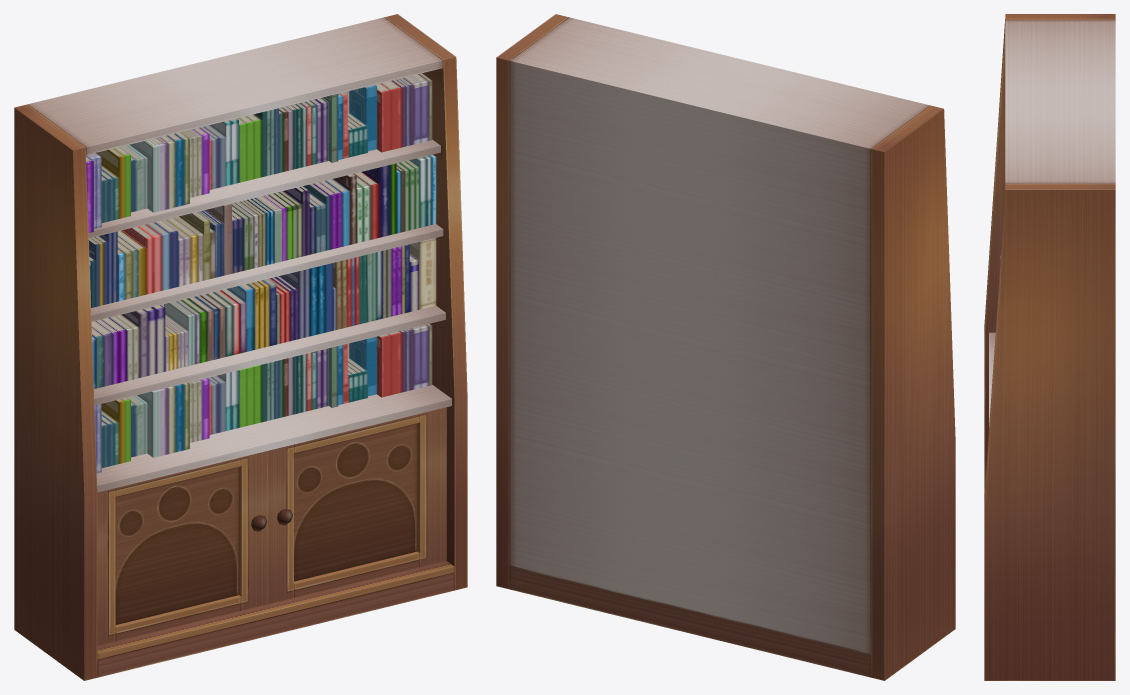
Rendered from Book_rack_01_01.fbx.
3 renders of one model, left to right at view 1: azimuth 30°, elevation 25°; view 2: azimuth 150°, elevation 25°; view 3: azimuth 270°, elevation 25°, orthographic. The views are drawn at different scales.
Visible parts, largest first — view 1: book_rack_01, door_R, door_L, book_b, book_a, book_c, book_d; view 2: book_rack_01; view 3: book_rack_01.
Boxes of the visible parts, <box> form: book_rack_01: <box>14,14,467,680</box>; door_R: <box>268,407,446,603</box>; door_L: <box>97,451,267,645</box>; book_b: <box>88,154,436,307</box>; book_a: <box>86,73,432,232</box>; book_c: <box>91,238,436,388</box>; book_d: <box>94,324,432,473</box>; book_rack_01: <box>496,14,955,680</box>; book_rack_01: <box>984,14,1115,680</box>.
Size of the model in its own units: 160 by 208 by 50.55.
